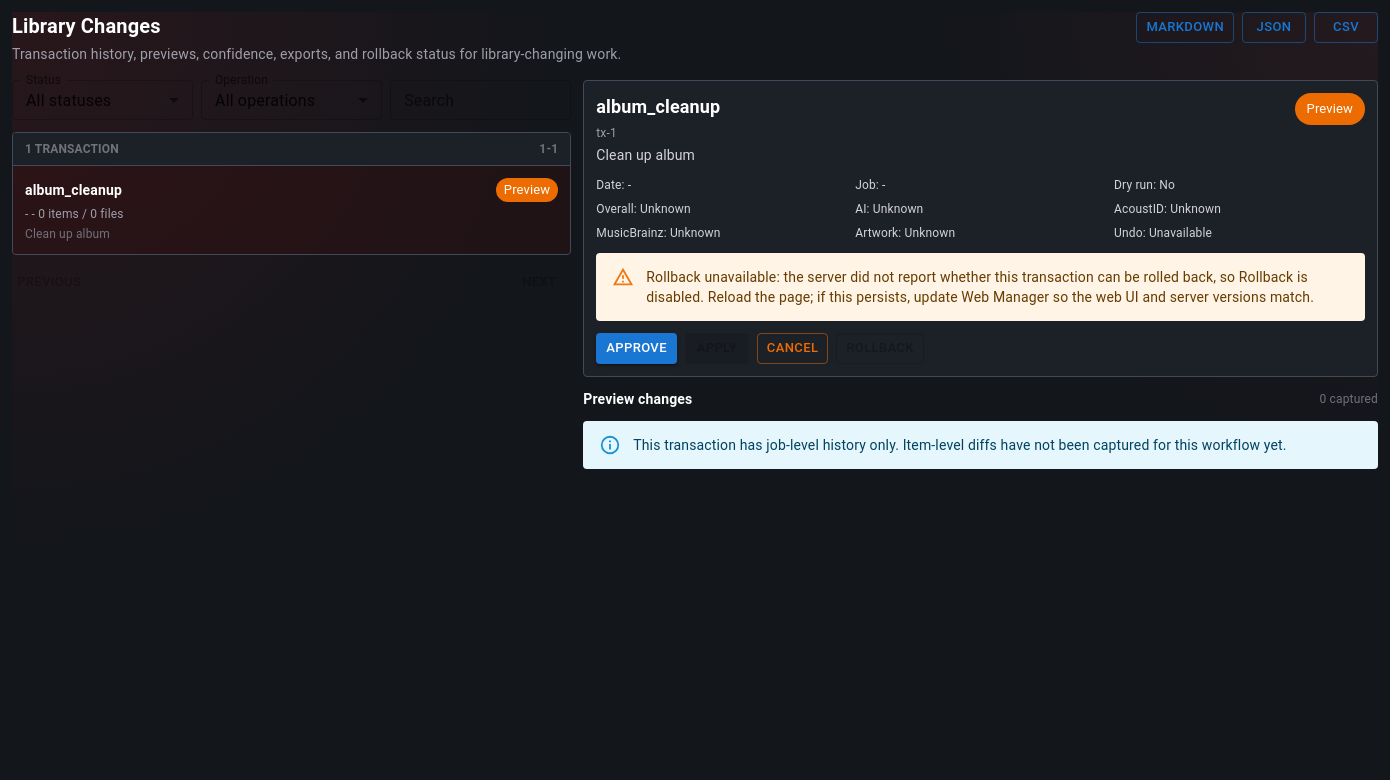
LibraryChanges approve › approves row-only plans without asking for or sending the phrase
Check: the text "Clean up album" below "tx-1" is shown, box [596, 147, 695, 163]
Click the button "Approve" at (637,348), box [596, 333, 677, 364]
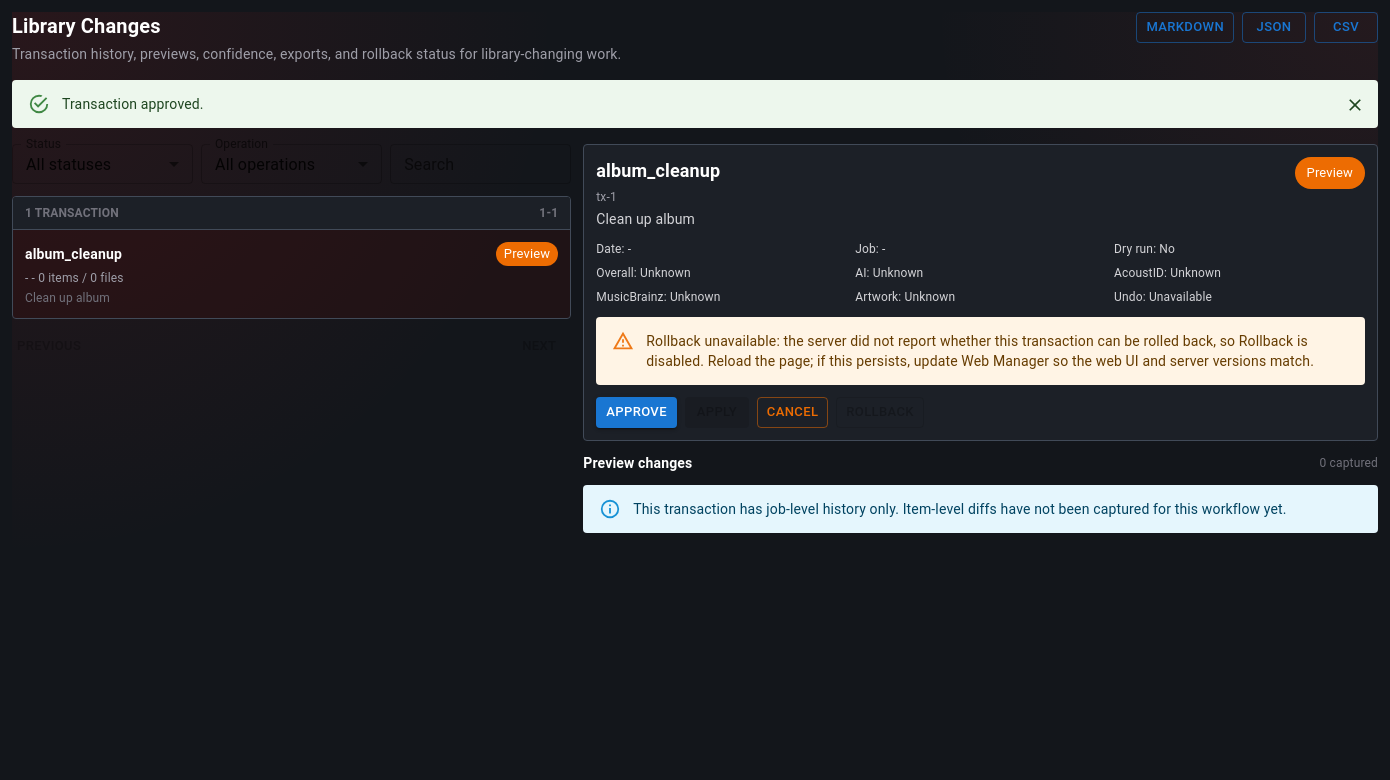
Check: the text "Transaction approved." is shown, box [62, 96, 204, 112]
